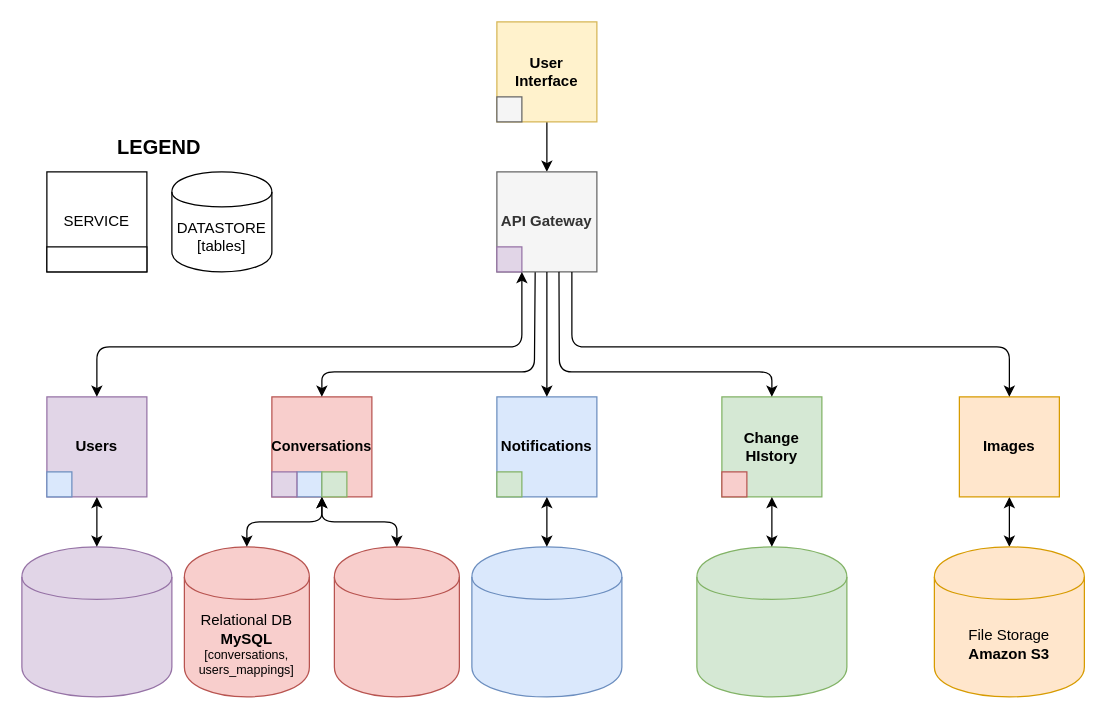
Some shapes in this 1106 by 719 pixel diagram are drawn without their labels. Each missing label, with the centre of its shape:
"Dependencies" belongs at (96,259).
"Document DB MongoDB [preferences]" belongs at (546,621).
"File Storage Amazon EFS" belongs at (396,621).
"Relational DB MySQL [users]" belongs at (96,621).
"Time Series DB Heroic [patches]" belongs at (771,621).
